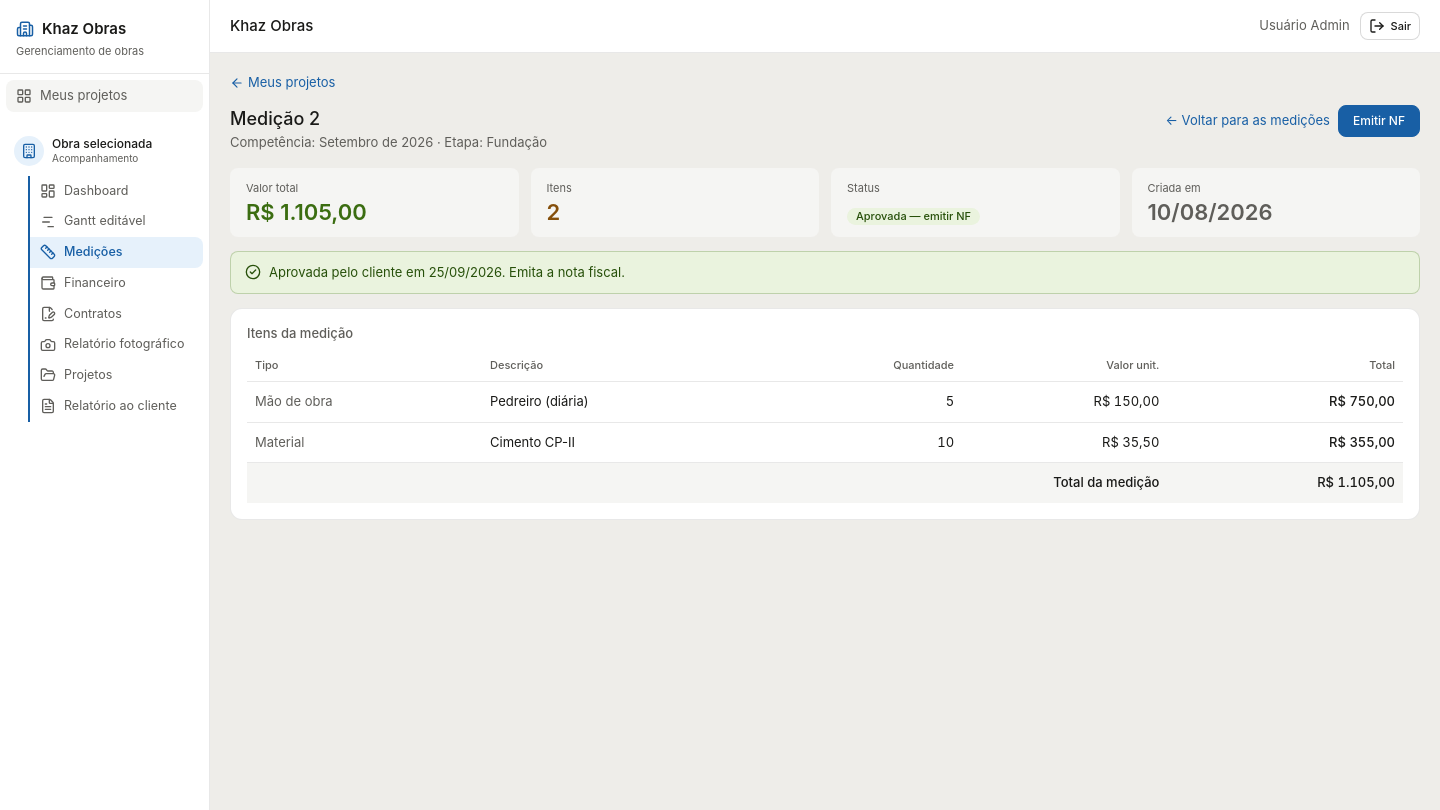
Test: Medição (admin) - emitir NF › abre o diálogo com o número da medição e o campo da NF vazio
Step 1. Click the button "Emitir NF" → [1379, 120], box [1338,104,1420,136]
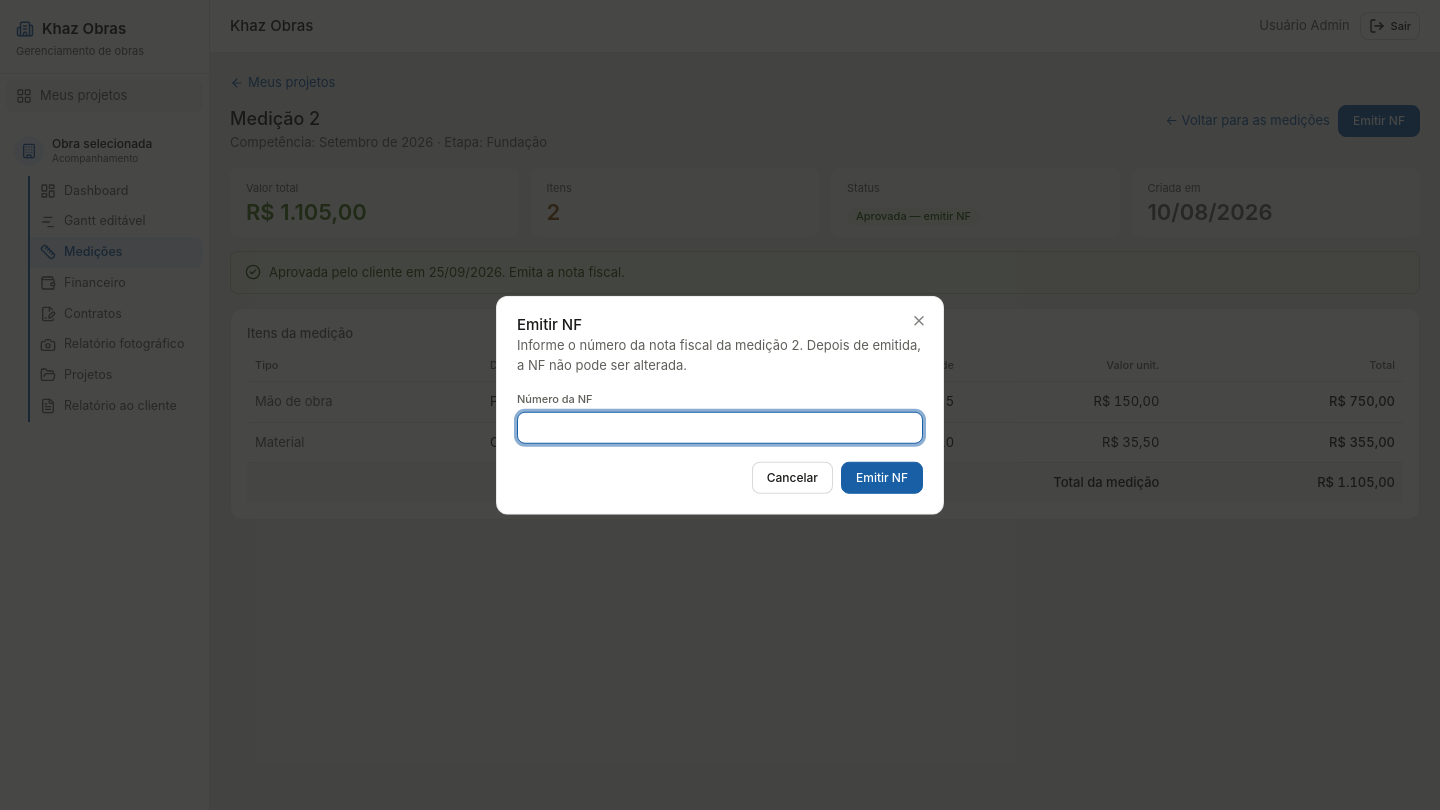
Result: the text "medição 2" is shown at [517,336,923,375]
Result: the field labelled "Número da NF" is empty at [517,411,923,443]
